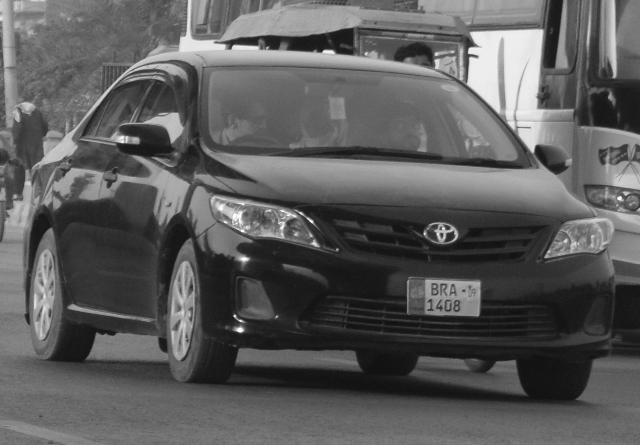Number: (426, 282, 464, 314)
